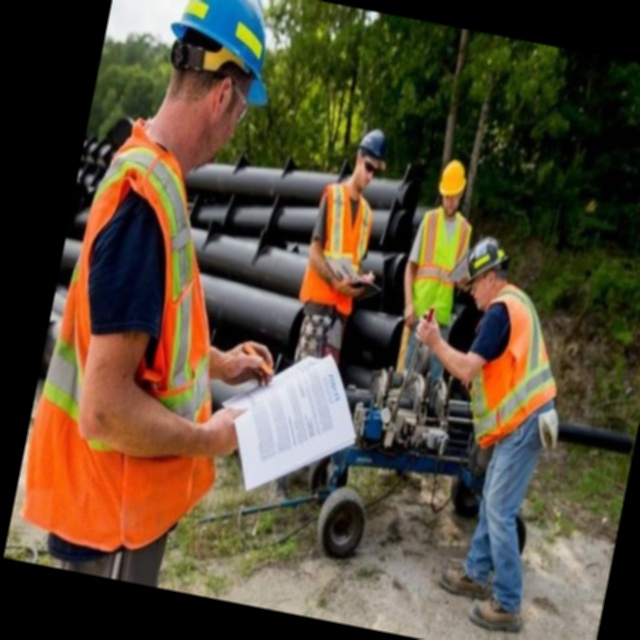Con_Chaleco: (11, 144, 257, 553), (458, 280, 572, 458), (300, 181, 381, 306), (402, 204, 477, 320)
